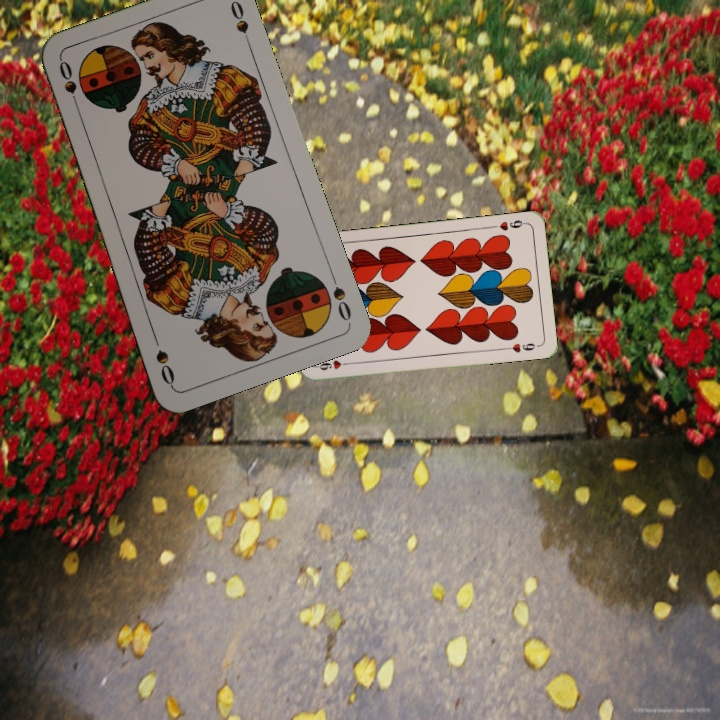H9: (488, 216, 529, 233), (313, 356, 354, 373)
SO: (55, 56, 83, 114), (326, 268, 354, 324)
